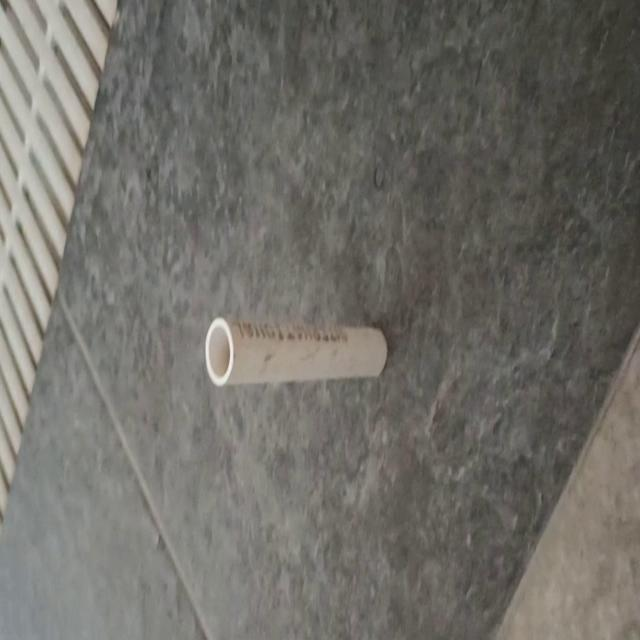Cube: (204, 314, 388, 388)
